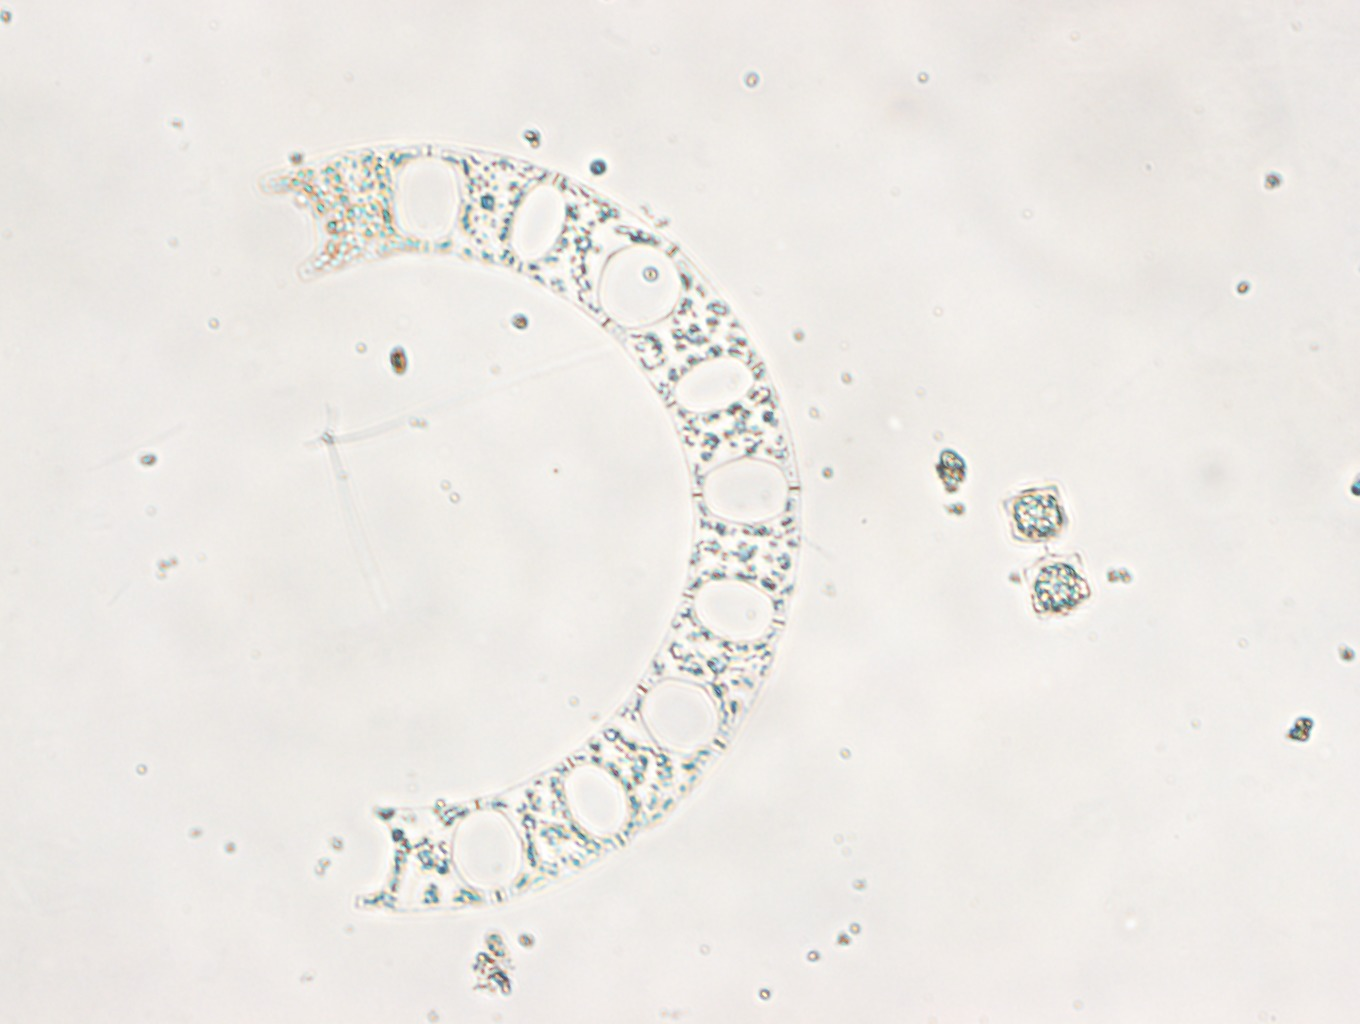detonula pumila: (999, 481, 1094, 622)
eucampia: (259, 141, 803, 916)
